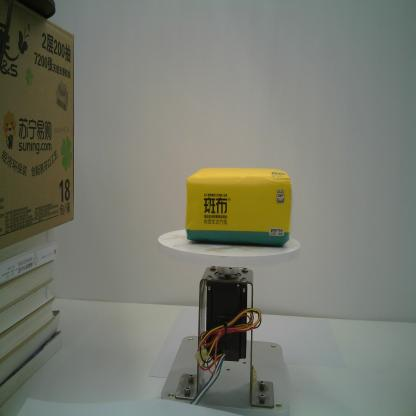Tissue: (184, 166, 294, 249)
